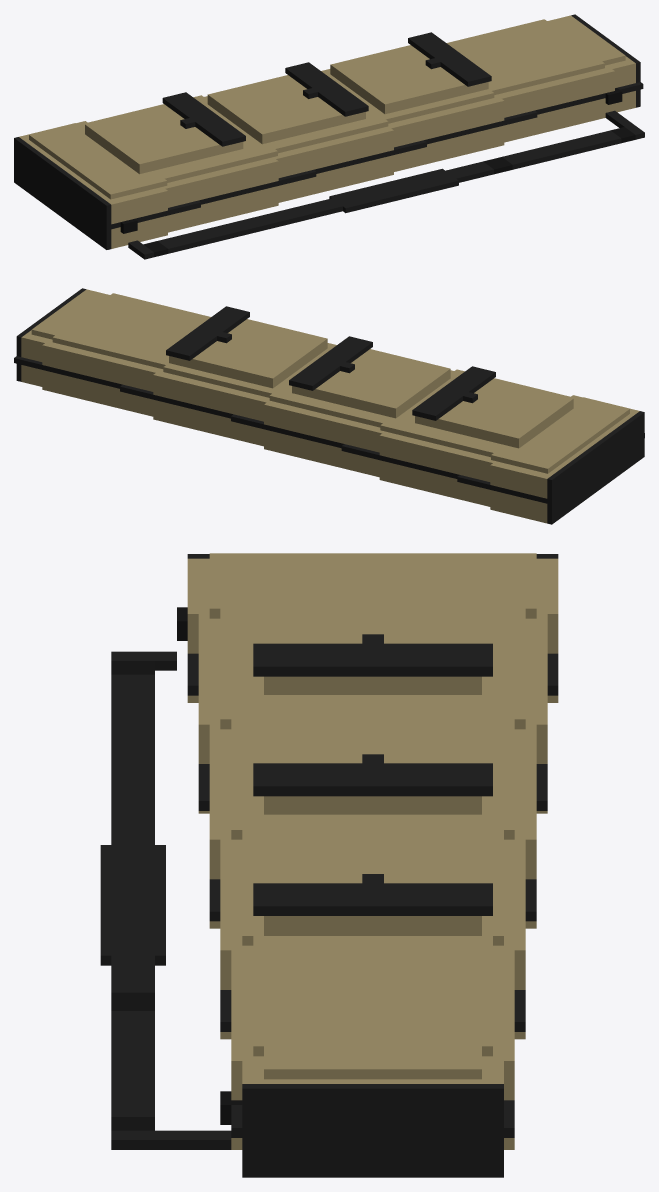
Rendered from rifle_case_soft_2.glb.
3 views of the same model, one above another, from view 1: azimuth 30°, elevation 25°; view 2: azimuth 150°, elevation 25°; view 3: azimuth 270°, elevation 25° (orthographic). The views are drawn at different scales.
Visible parts, largest first — view 1: rifle_case_soft_2:compound; view 2: rifle_case_soft_2:compound; view 3: rifle_case_soft_2:compound.
Boxes of the visible parts, x1,y1,x2,y2 form: rifle_case_soft_2:compound: (14, 14, 644, 259); rifle_case_soft_2:compound: (14, 288, 644, 524); rifle_case_soft_2:compound: (100, 553, 558, 1177).
Size of the model in its own units: 1.16 by 0.13 by 0.42.
